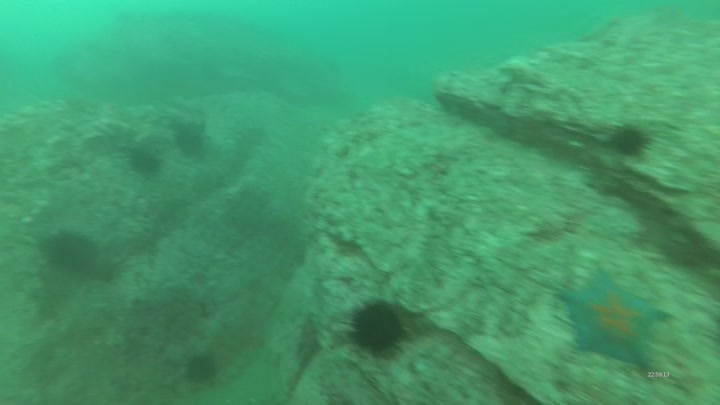echinus: (342, 299, 404, 352), (39, 228, 98, 277), (605, 122, 652, 159), (186, 353, 222, 383), (171, 127, 207, 156), (129, 145, 163, 175)
starfish: (561, 265, 674, 374)
